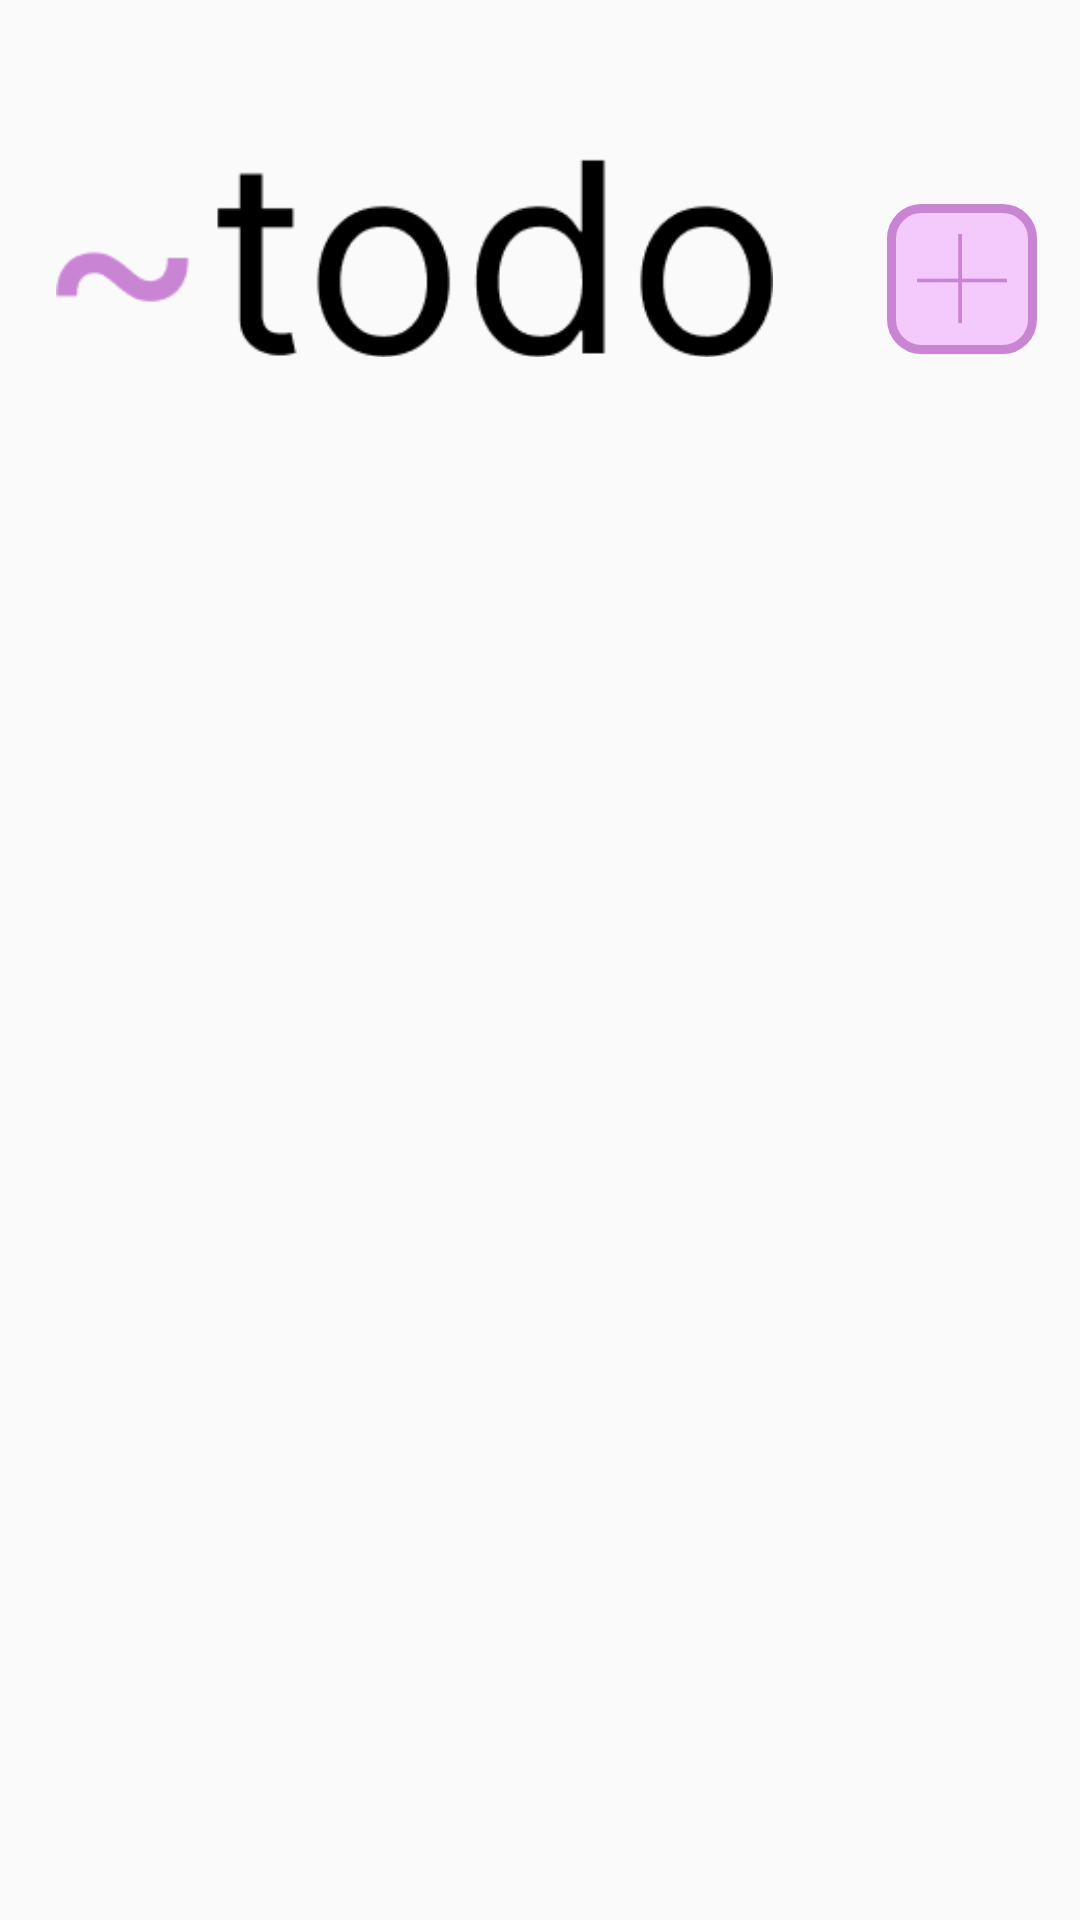

Icon click points for this 1080×1920 phone screenshot, format (x,y):
plus: (962,279)
